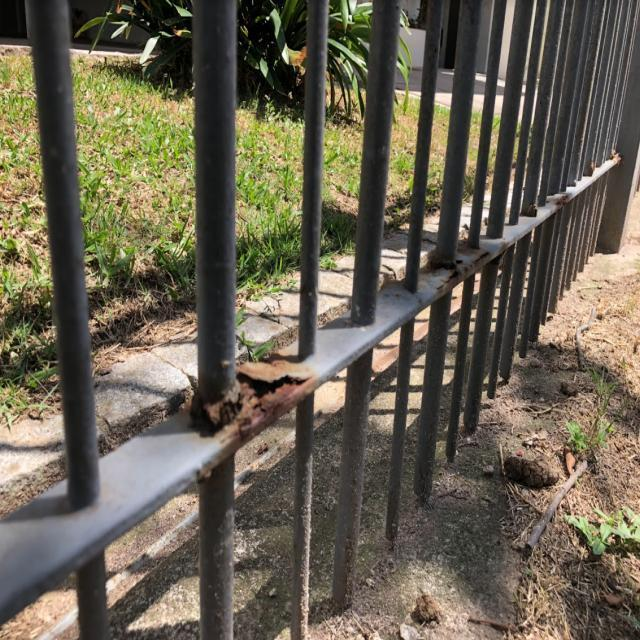Corrosion: (0, 0, 639, 639), (502, 453, 559, 487), (409, 592, 442, 625)
